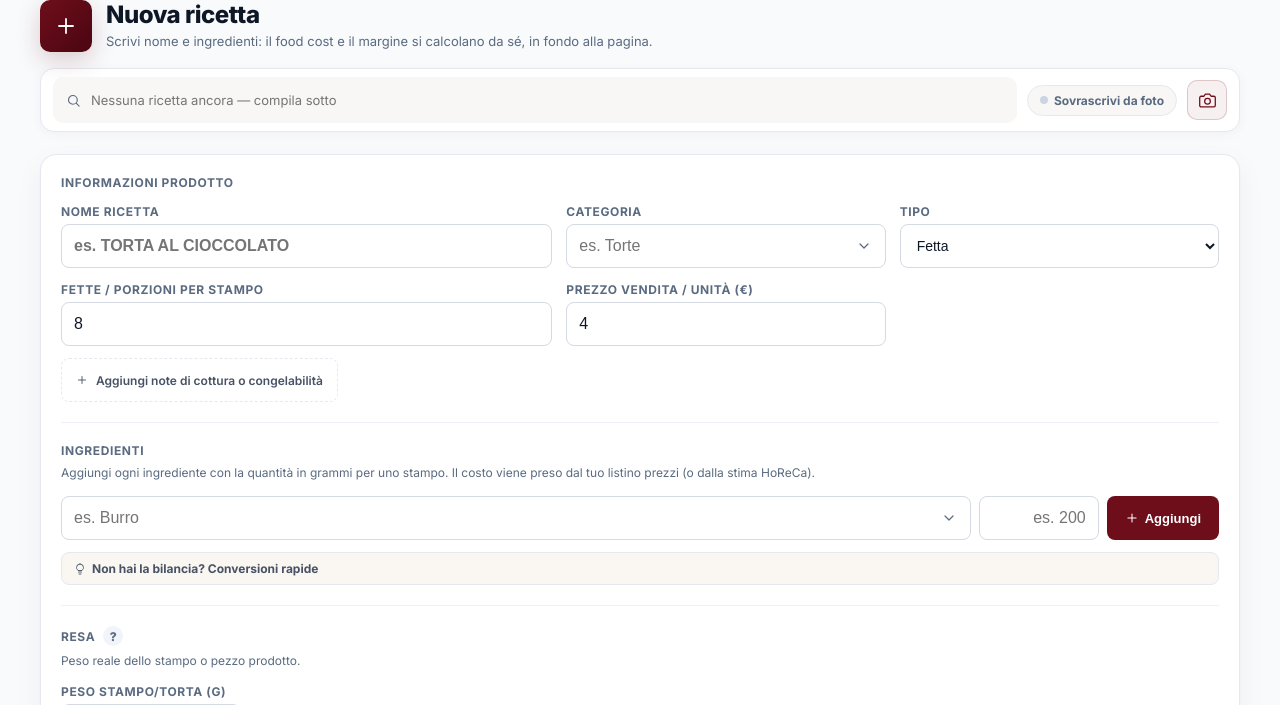
Nuova Ricetta - onesta del verdetto › senza i prezzi non dice "stai guadagnando piu del target"
Type "farcitura segreta della nonna" into the dropdown named "nome ingrediente da aggiungere" at point(516, 518), box [61,496,971,540]
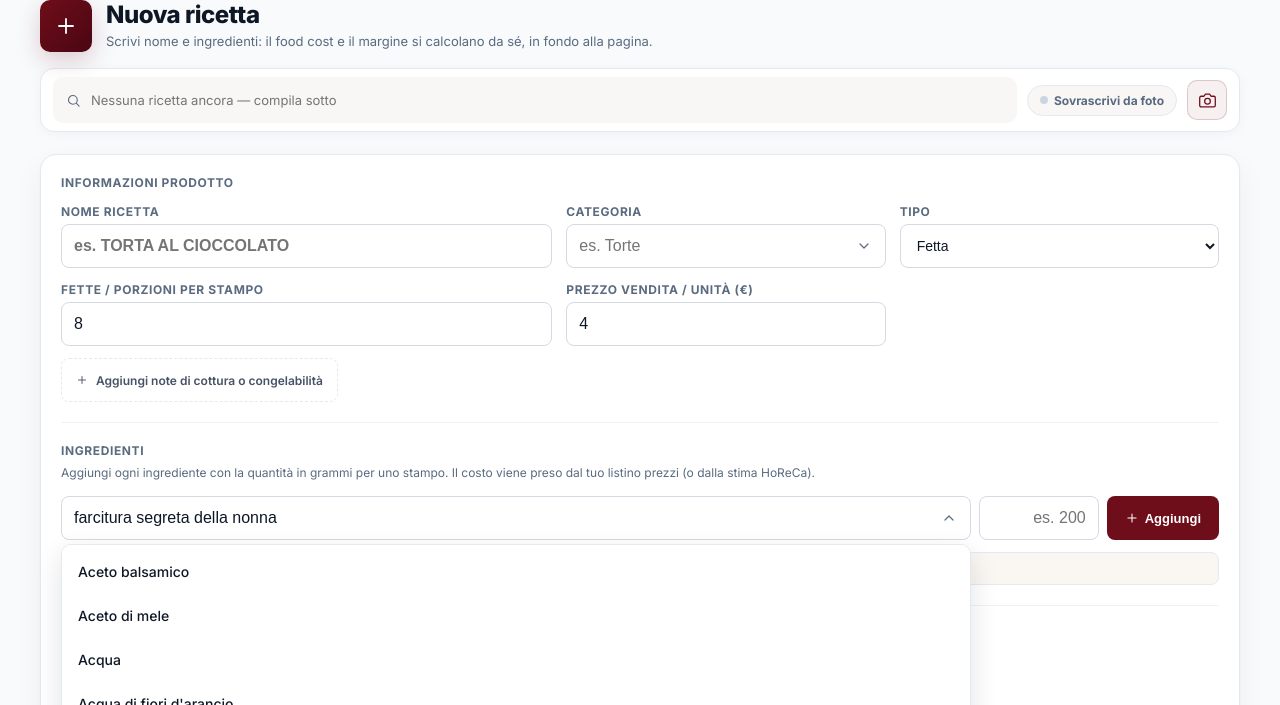
Type "300" into the field named "grammi di ingrediente da aggiungere" at point(1039, 518), box [979,496,1099,540]
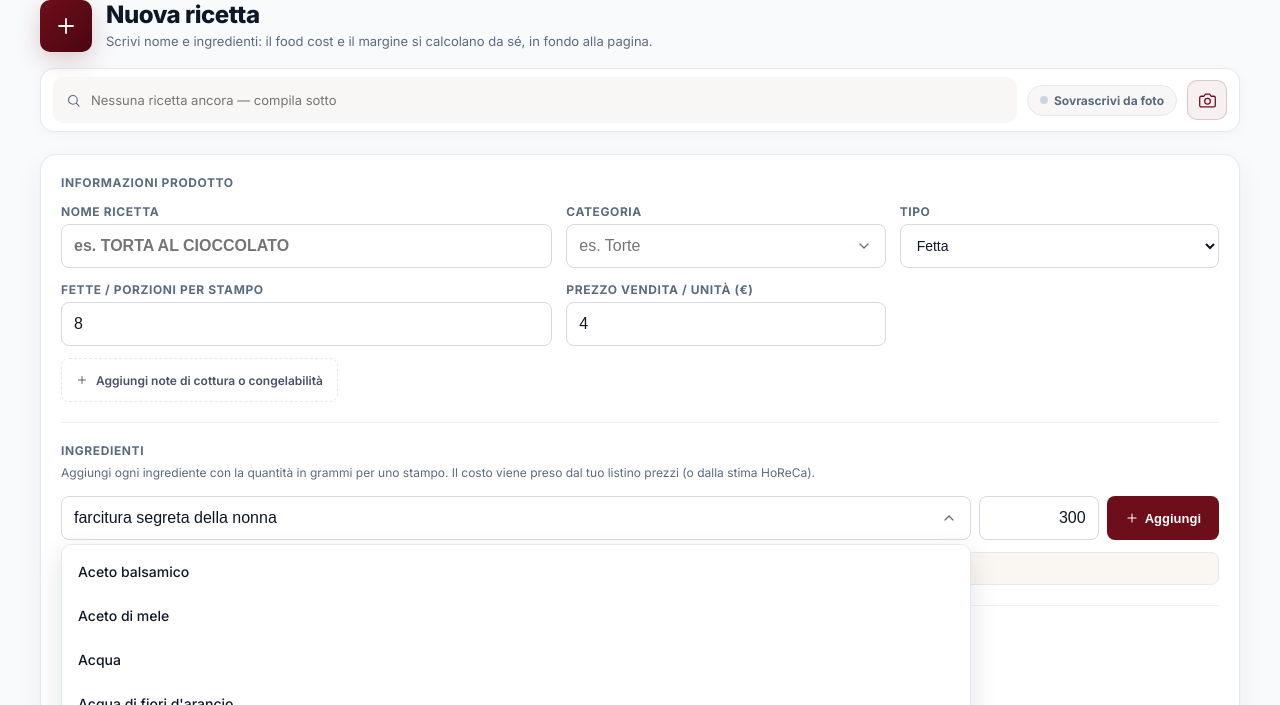
Click the button with aria-label "Aggiungi ingrediente alla ricetta" at point(1163, 518), box [1107,496,1219,540]
(page scrolled)
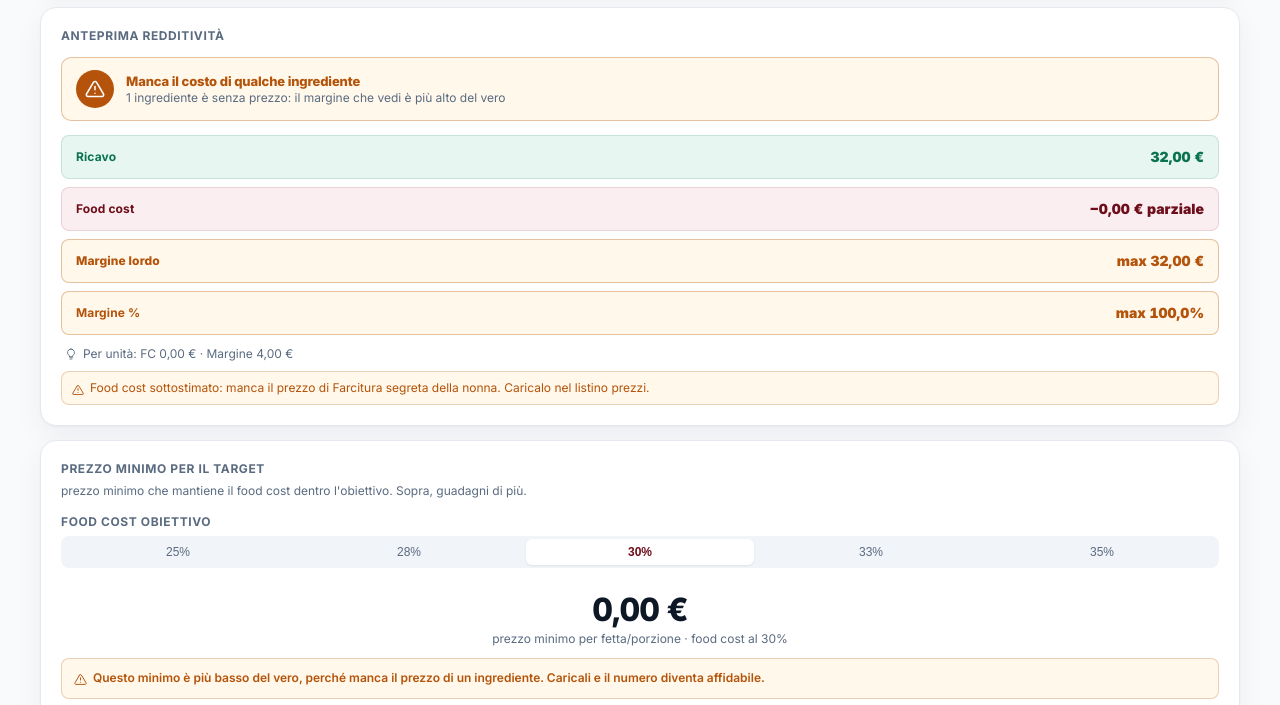
Check: the text "senza prezzo" is shown, box [126,90,288,105]
Check: the text "più basso del vero" is shown, box [93,670,349,685]
